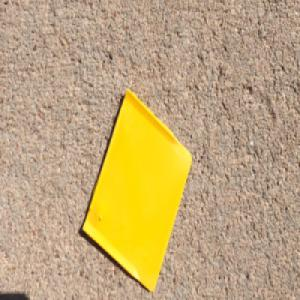PlasticPart: (79, 84, 191, 291)
